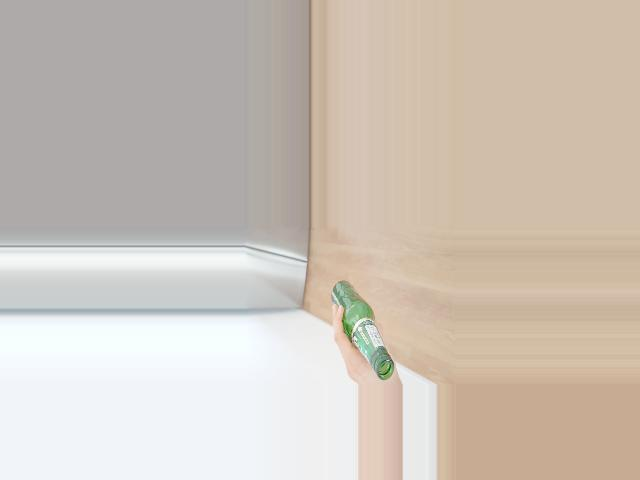beer: (332, 280, 394, 380)
